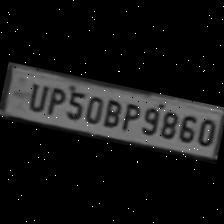0: (79, 90, 106, 124), (194, 113, 218, 148)
5: (60, 84, 86, 120)
6: (175, 108, 199, 144)
8: (156, 105, 180, 141)
9: (136, 100, 162, 136)
B: (99, 94, 123, 128)
P: (116, 98, 142, 134), (42, 82, 66, 116)
U: (22, 77, 50, 113)
